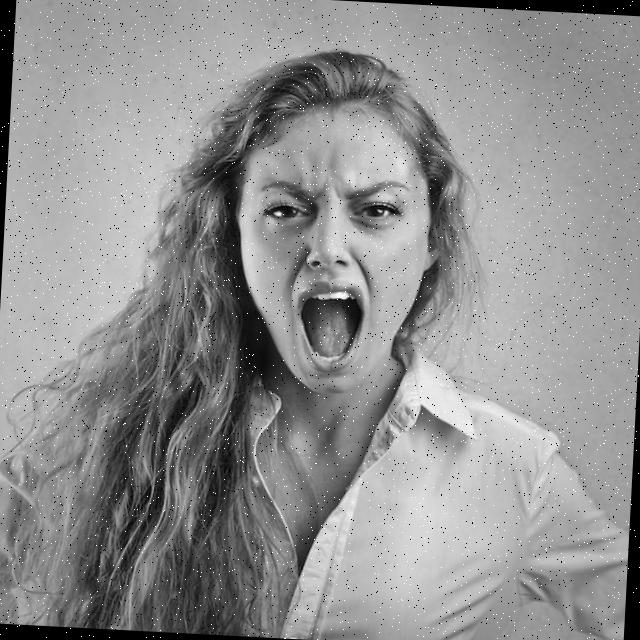Angry: (230, 105, 436, 398)
